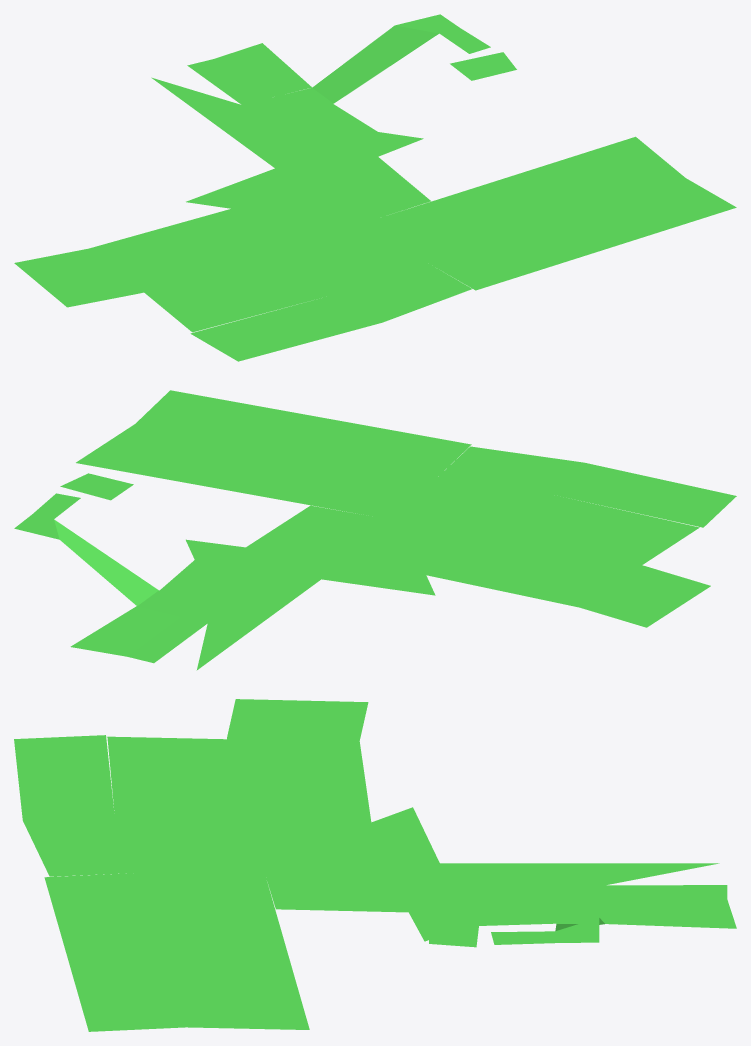
File: nav-1.gltf
3 renders of one model, top to bottom at view 1: azimuth 30°, elevation 25°; view 2: azimuth 150°, elevation 25°; view 3: azimuth 270°, elevation 25°, orthographic. The views are drawn at different scales.
Parts seen in each view (by area): view 1: nav-0; view 2: nav-0; view 3: nav-0.
Boxes of the visible parts, bbox=[...] form: nav-0: bbox=[14, 14, 736, 361]; nav-0: bbox=[14, 390, 736, 670]; nav-0: bbox=[14, 699, 736, 1031].
Size of the model in its own units: 4.89 by 0.3462 by 4.49.
